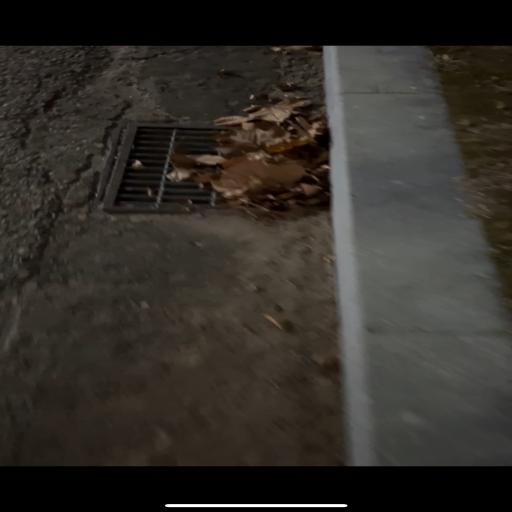debris: (256, 194, 275, 199), (176, 196, 190, 199), (317, 154, 323, 161), (132, 164, 141, 168), (308, 199, 316, 203)
drain: (121, 126, 324, 206)
